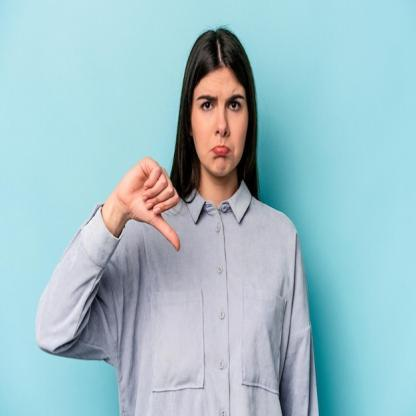thumb_down: (116, 154, 184, 254)
